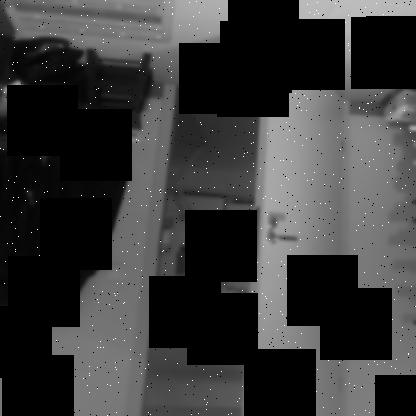Porte: (120, 22, 352, 415)
